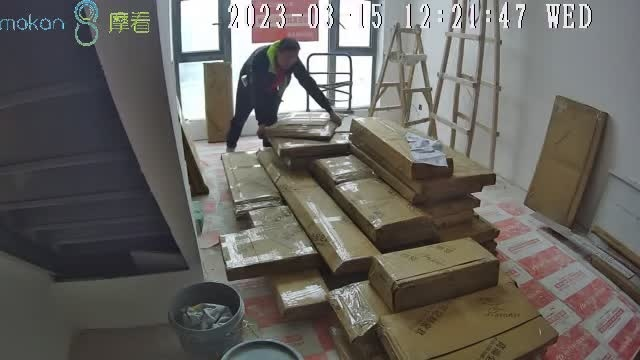people: (227, 38, 342, 152)
window: (175, 1, 381, 121)
